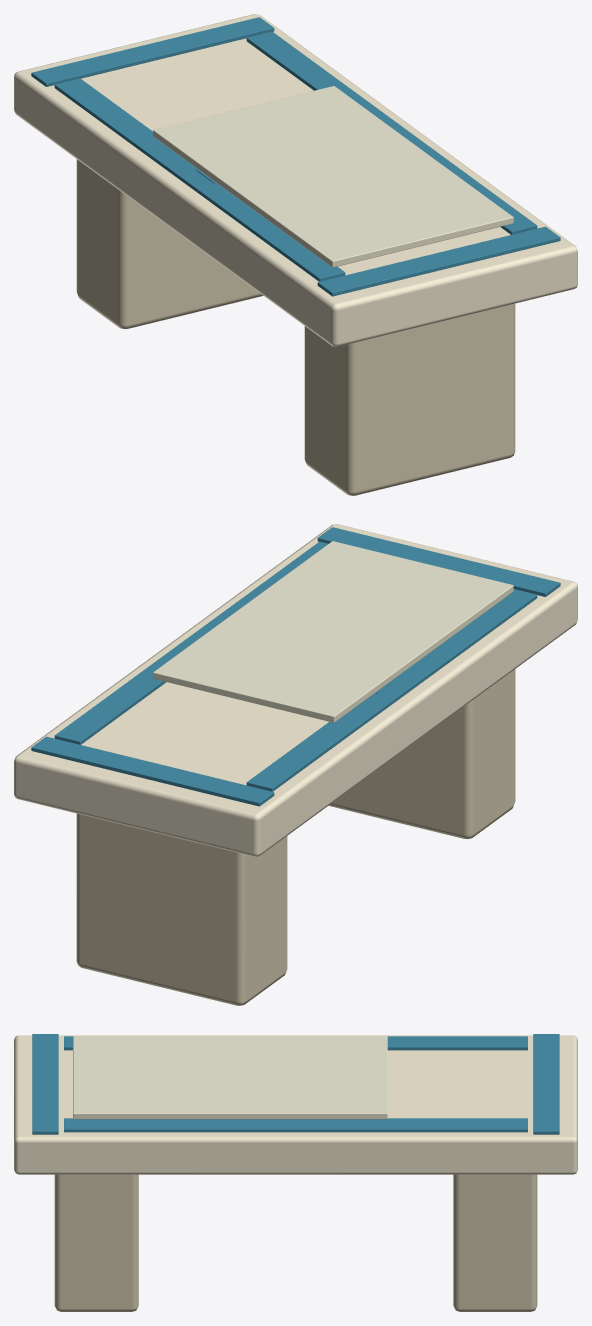
The model's file is fantasy-bathhouse-and-thermal-sanctuary-fantasy-bathho-43076f00__29468.glb.
3 views of the same model, one above another, from view 1: azimuth 30°, elevation 25°; view 2: azimuth 150°, elevation 25°; view 3: azimuth 270°, elevation 25° (orthographic). The views are drawn at different scales.
Visible parts, largest first — view 1: fantasy-bathhouse-and-thermal-sanctuary-massage-slab; view 2: fantasy-bathhouse-and-thermal-sanctuary-massage-slab; view 3: fantasy-bathhouse-and-thermal-sanctuary-massage-slab.
Boxes of the visible parts, <box> form: fantasy-bathhouse-and-thermal-sanctuary-massage-slab: <box>14,14,577,495</box>; fantasy-bathhouse-and-thermal-sanctuary-massage-slab: <box>14,524,577,1005</box>; fantasy-bathhouse-and-thermal-sanctuary-massage-slab: <box>14,1034,577,1311</box>.
Size of the model in its own units: 0.9499 by 0.8571 by 2.15.
